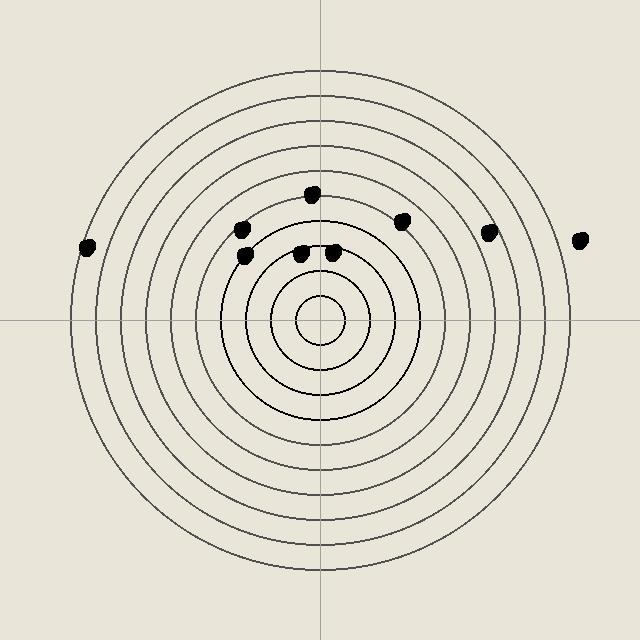horizontal_scatter: (290, 243, 310, 263), (234, 245, 254, 265), (322, 242, 342, 262), (301, 184, 321, 204), (76, 237, 96, 257), (391, 211, 411, 231), (569, 230, 589, 250), (478, 222, 498, 242), (231, 219, 251, 239)
